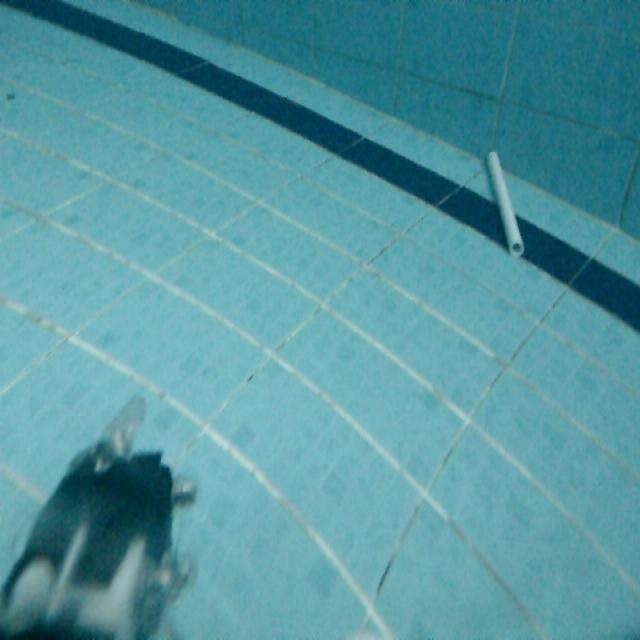Cube: (483, 145, 527, 260)
